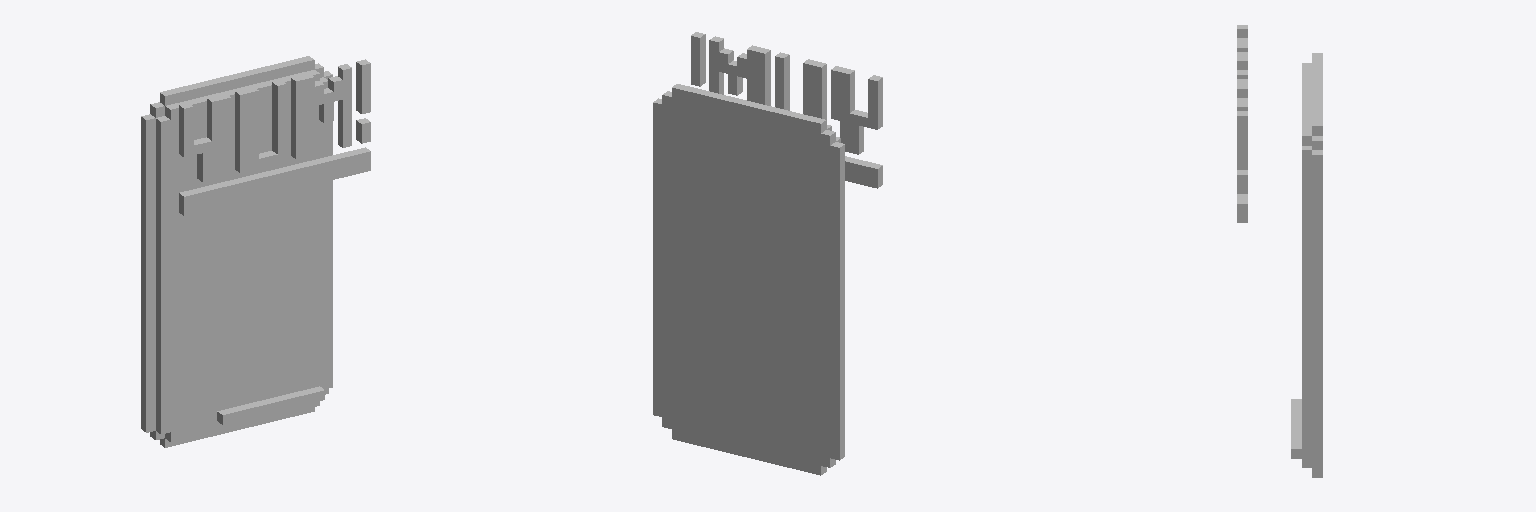
File: aboutPhone.obj
3 views of the same model, side by side, from view 1: azimuth 30°, elevation 25°; view 2: azimuth 150°, elevation 25°; view 3: azimuth 270°, elevation 25° (orthographic).
Bounding box in the file's own units: 20 × 38 × 8.